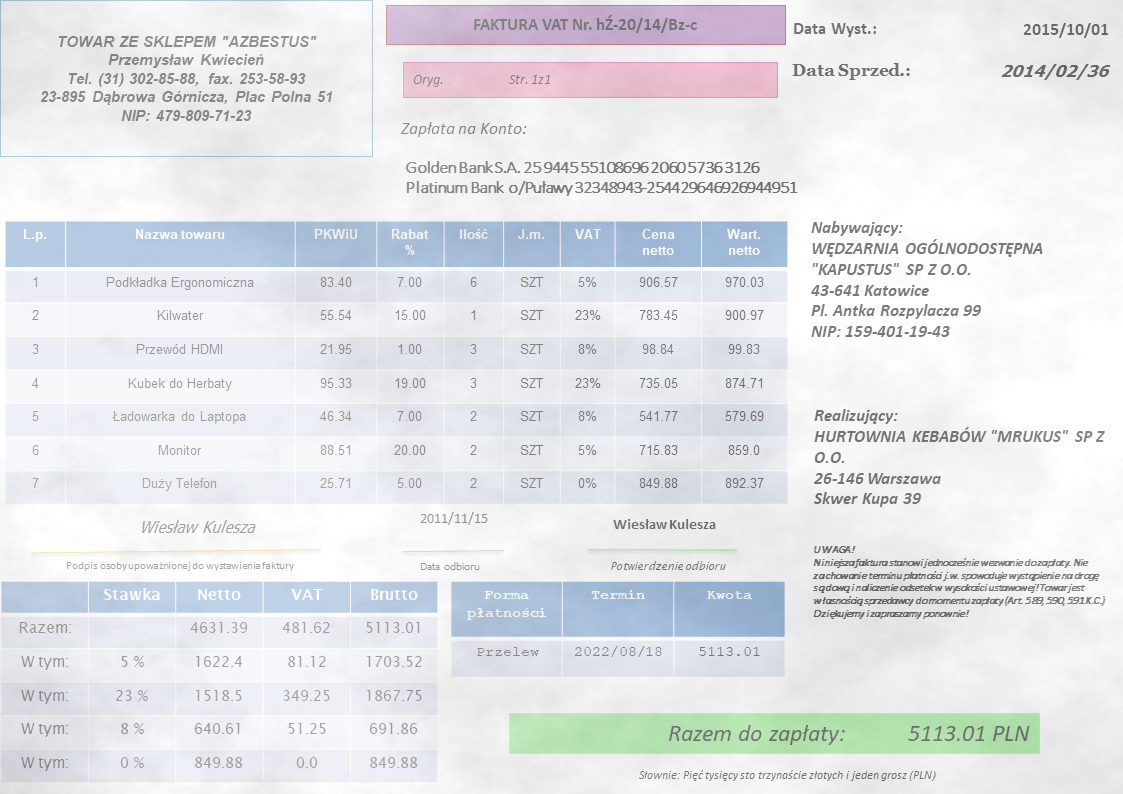Table: (4, 218, 787, 503), (1, 580, 438, 783), (449, 580, 786, 678)
TextBox: (812, 405, 1107, 508), (809, 219, 1048, 342), (37, 33, 337, 126), (810, 542, 1109, 621), (404, 158, 801, 197), (665, 720, 1032, 745), (472, 12, 700, 36), (637, 767, 938, 784), (64, 557, 296, 573), (397, 118, 529, 140), (791, 61, 914, 83), (138, 516, 259, 538), (1000, 61, 1112, 84), (410, 71, 553, 87), (610, 514, 719, 533), (608, 558, 728, 574), (1021, 20, 1110, 39), (792, 20, 879, 39), (417, 509, 490, 528), (417, 559, 480, 573)
